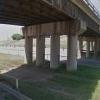Bridge: (33, 0, 98, 75)
